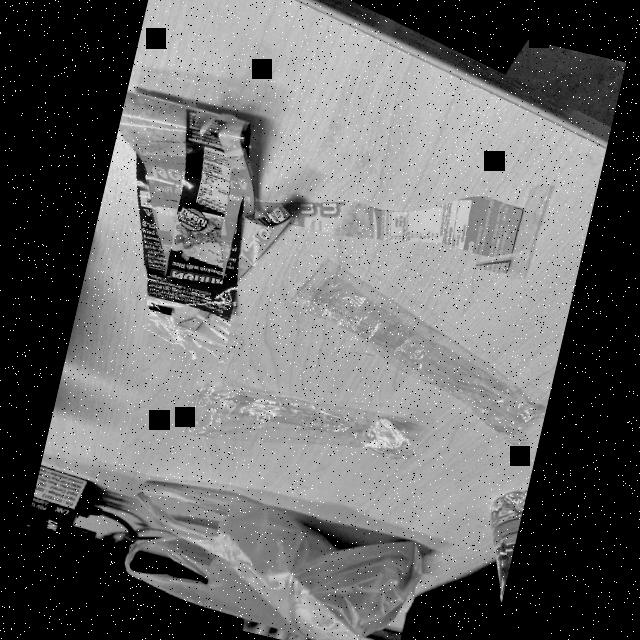scrap_plastic: (72, 79, 326, 372), (268, 254, 568, 446), (160, 348, 437, 504)
